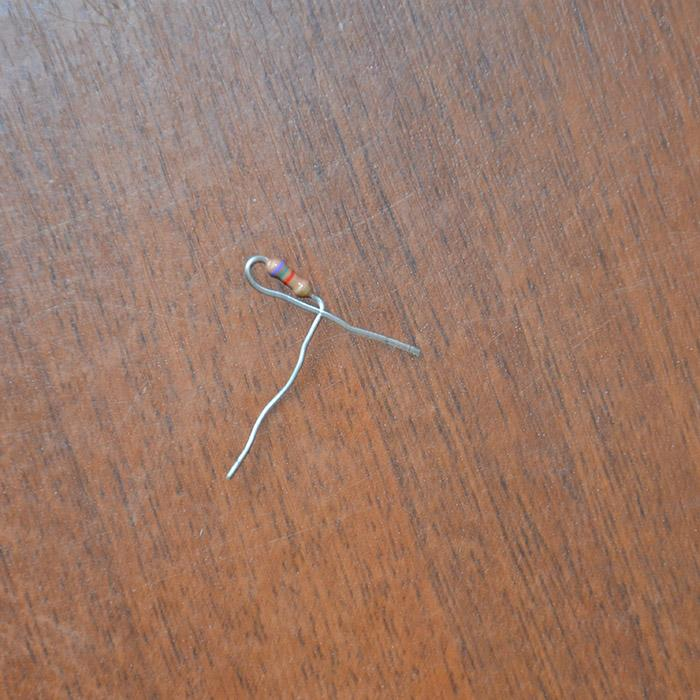resistor: (266, 256, 311, 298)
